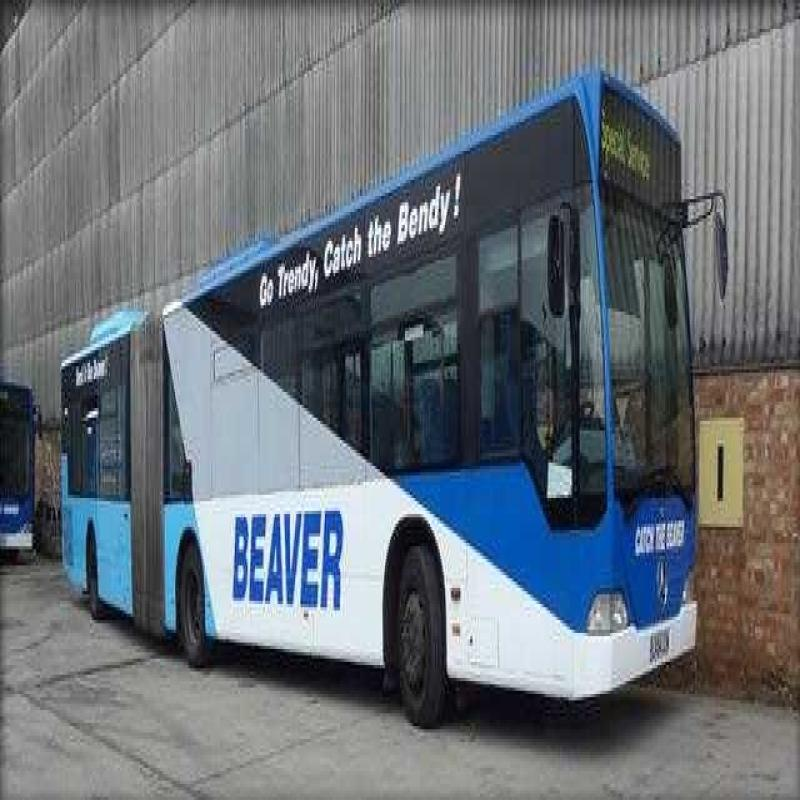bus: (148, 47, 738, 767)
